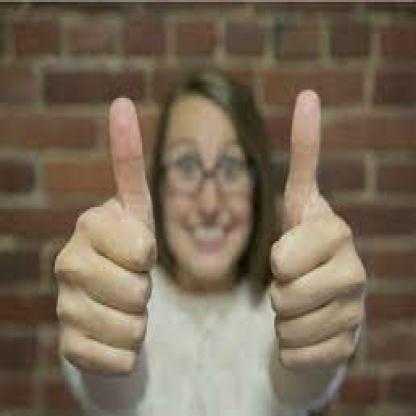thumb_up: (50, 91, 160, 382), (265, 85, 369, 373)
